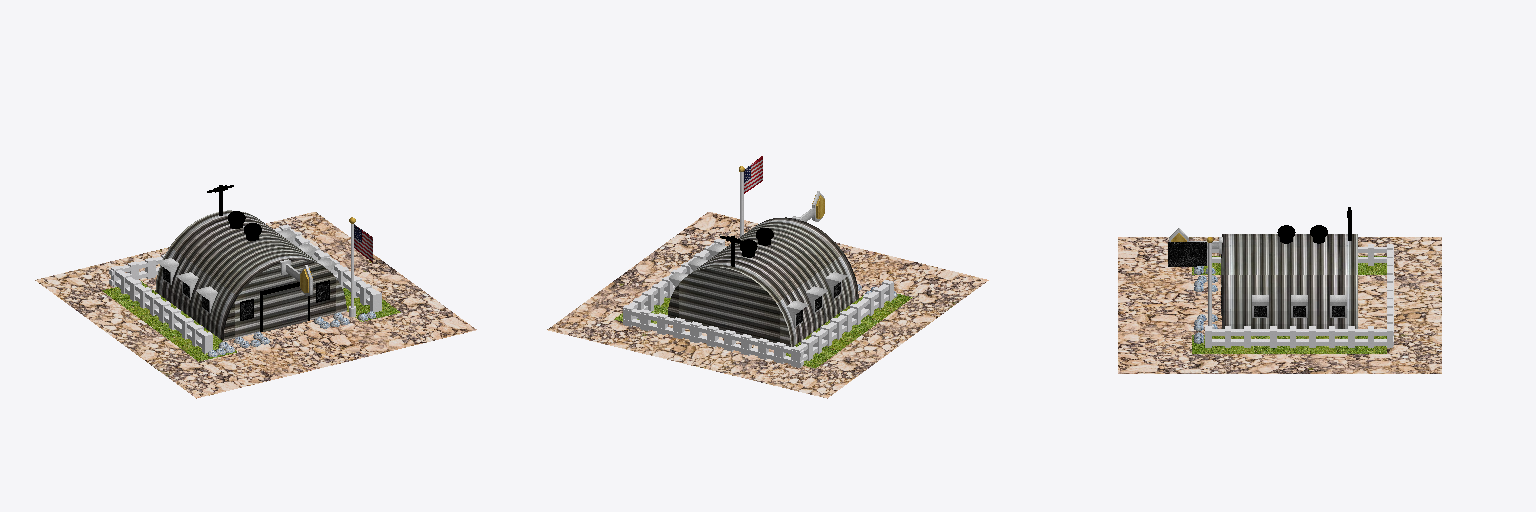
3 renders of one model, left to right at view 1: azimuth 30°, elevation 25°; view 2: azimuth 150°, elevation 25°; view 3: azimuth 270°, elevation 25°, orthographic.
Visible parts, largest first — view 1: Box061; view 2: Box061; view 3: Box061.
Part boxes in pixels (left/top/right/bottom): Box061: left=35, top=185, right=476, bottom=398; Box061: left=547, top=156, right=988, bottom=398; Box061: left=1118, top=207, right=1441, bottom=373.
Bounding box in the file's own units: 4.42 × 1.48 × 4.42.
12 materials, 9 textured.